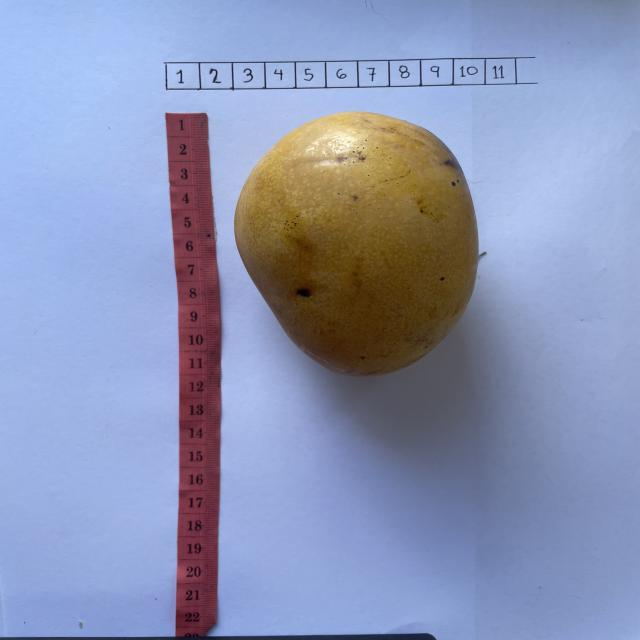Ripe: (233, 110, 481, 380)
